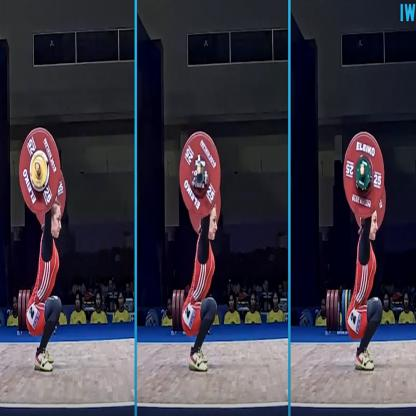Barbell: (340, 122, 389, 220), (176, 128, 224, 226), (17, 122, 63, 220)
